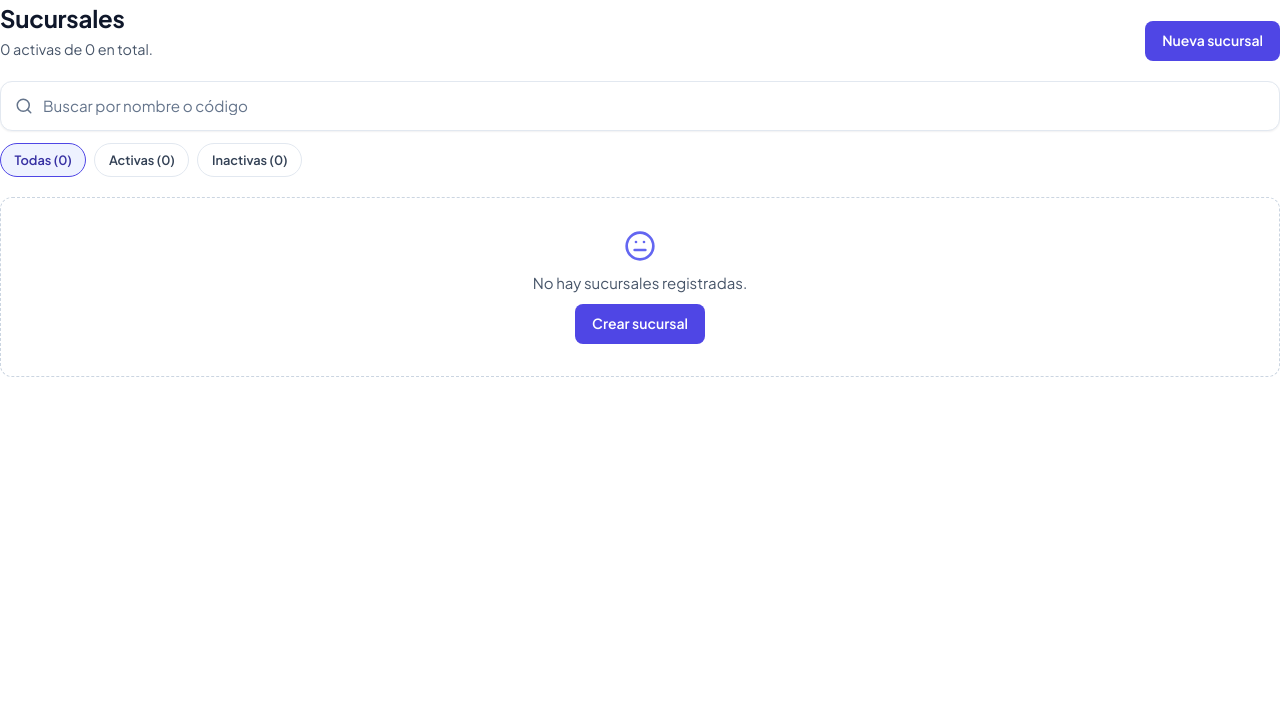
it: SucursalesPage: número de guardias › bloquea la creación e informa cuando no hay áreas elegibles
This screenshot has width=1280, height=720.
Expected: the text "No hay sucursales registradas." is shown, [533, 272, 747, 294]
Click the button "Nueva sucursal": (1213, 41) [1145, 21, 1279, 61]
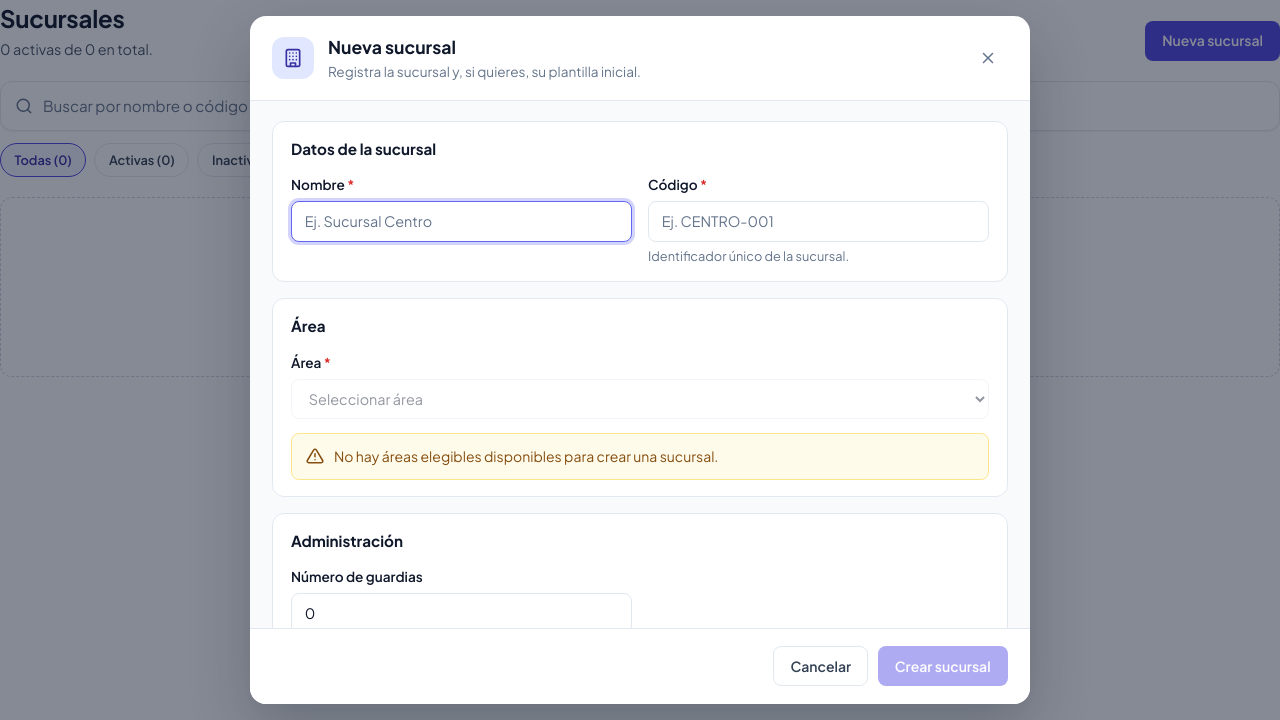
Expected: the text "No hay áreas elegibles disponibles para crear una sucursal." is shown, [334, 446, 718, 467]
Expected: the button "Crear sucursal" is disabled, [878, 646, 1008, 686]
